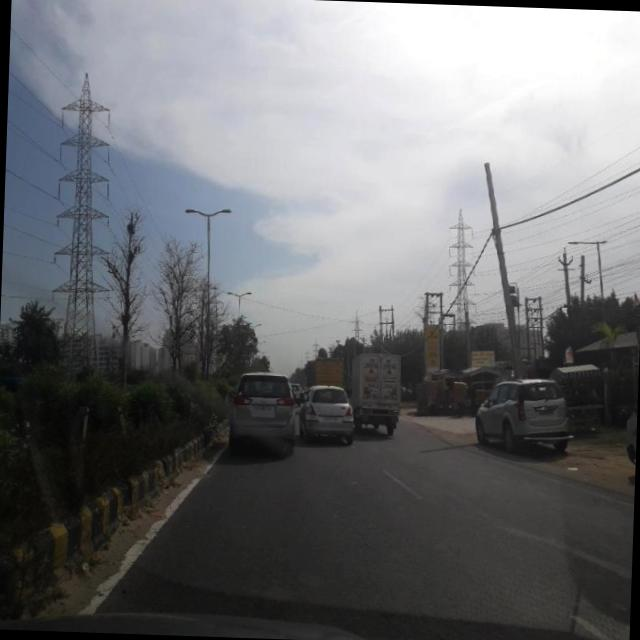crack: (168, 453, 624, 639)
